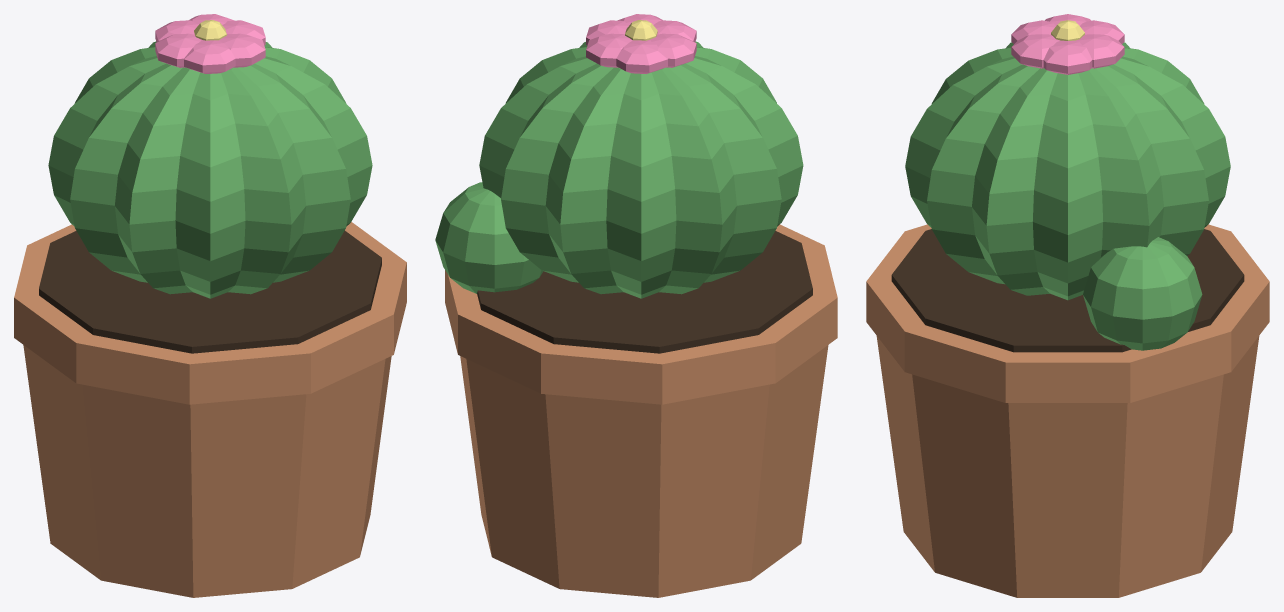
Rendered from cactus_pot.glb.
The picture shows the model from 3 angles, left to right: view 1: azimuth 30°, elevation 25°; view 2: azimuth 150°, elevation 25°; view 3: azimuth 270°, elevation 25°; orthographic projection.
Visible parts, largest first — view 1: cactus_pot; view 2: cactus_pot; view 3: cactus_pot.
Boxes of the visible parts, x1=… form: cactus_pot: x1=14, y1=14, x2=406, y2=597; cactus_pot: x1=435, y1=14, x2=837, y2=597; cactus_pot: x1=866, y1=14, x2=1269, y2=597.
Bounding box in the file's own units: 0.2568 × 0.377 × 0.27.
